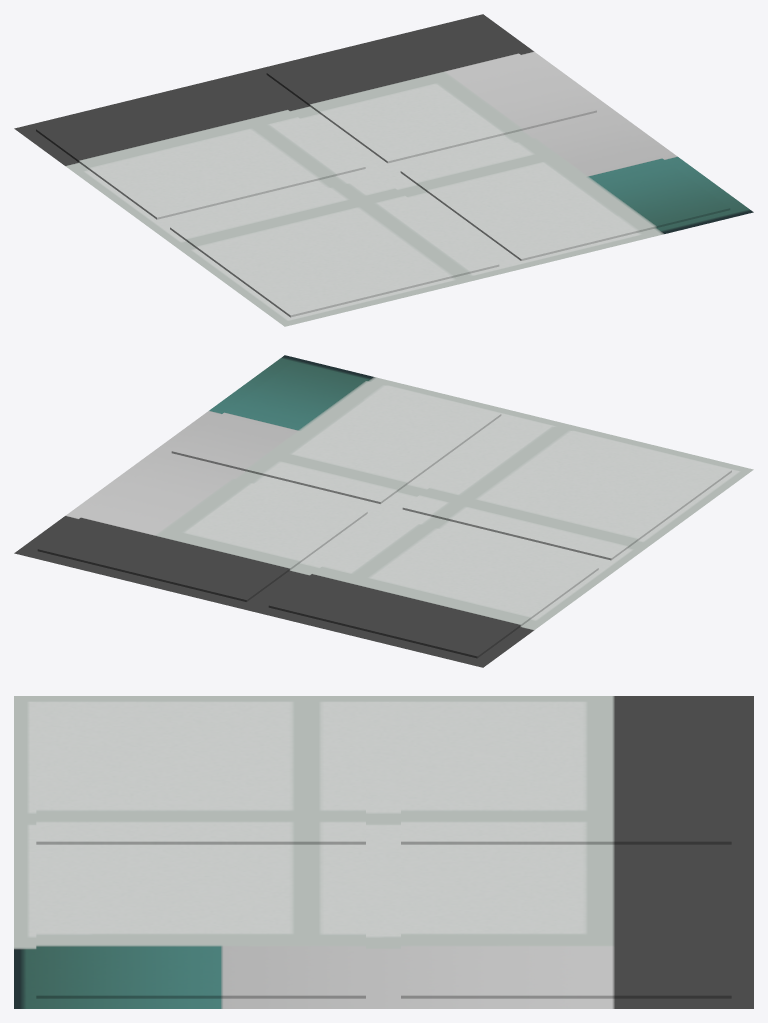
Rendered from Ceiling_A_2x2.fbx.
3 views of the same model, one above another, from view 1: azimuth 30°, elevation 25°; view 2: azimuth 150°, elevation 25°; view 3: azimuth 270°, elevation 25° (orthographic). The views are drawn at different scales.
Visible parts, largest first — view 1: Ceiling_A_2x2; view 2: Ceiling_A_2x2; view 3: Ceiling_A_2x2.
Boxes of the visible parts, x1,y1,x2,y2 form: Ceiling_A_2x2: [14, 14, 753, 326]; Ceiling_A_2x2: [14, 355, 753, 667]; Ceiling_A_2x2: [14, 696, 753, 1008].
Size of the model in its own units: 200 by 0.8318 by 200.
